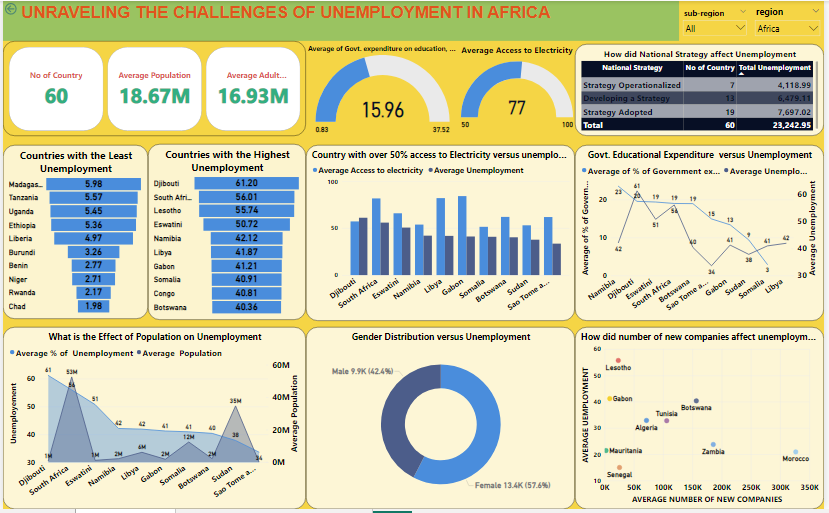

What the dashboard file says about the page in this screenshot:
{"tool":"powerbi","page":{"name":"Dashboard","canvas":[2100,1300],"ordinal":0},"visuals":[{"type":"funnel","title":"Countries with the Highest Unemployment","fields":{"Category":["Gender Dist.Entity"],"Y":["Avg(Gender Dist.% of Total Unemployement)"]},"box":[371.1,365.9,404.3,450.4],"z":0},{"type":"funnel","title":"Countries with the Least Unemployment ","fields":{"Category":["Gender Dist.Entity"],"Y":["Avg(Gender Dist.% of Total Unemployement)"]},"box":[0,368.5,371.1,445.3],"z":1000},{"type":"slicer","fields":{"Values":["Country Codes.region"]},"box":[1914.2,7.7,186.8,102.4],"z":2000},{"type":"tableEx","title":"How did National Strategy affect Unemployment","fields":{"Values":["National Strategy.National Strategy","Country Codes.No of Country","Sum(Gender Dist.% of Total Unemployement)"]},"box":[1464.2,110.1,635.8,256],"z":3000},{"type":"actionButton","box":[0,0,100,40],"z":4000},{"type":"scatterChart","title":"How did number of new companies affect unemployment","fields":{"Category":["Firm_Dist.Economy"],"X":["Avg(Firm_Dist.TOTAL Number of Limited Liability Companies)"],"Y":["Avg(Gender Dist.% of Total Unemployement)"],"Series":["Gender Dist.Entity"]},"box":[1463.8,834.3,637.2,465.7],"z":5000},{"type":"donutChart","title":"Gender Distribution versus Unemployment","fields":{"Y":["Sum(Gender Dist.% of Female Unemployment)","Sum(Gender Dist.% of Male Unemployment)"]},"box":[775.4,834.3,688.4,465.7],"z":6000},{"type":"clusteredColumnChart","title":"Country with over 50% access to Electricity versus unemployment","fields":{"Category":["Electricity.Entity"],"Y":["Avg(Electricity.Access to electricity (% of population))","Avg(Gender Dist.% of Total Unemployement)"]},"box":[775.4,368.5,688.4,450.4],"z":7000},{"type":"cardVisual","fields":{"Data":["Country Codes.No of Country","Avg(Gender Dist.Population )","Avg(Firm_Dist.Adult population)"]},"box":[0,102.4,775.4,243.1],"z":8000},{"type":"slicer","fields":{"Values":["Country Codes.sub-region"]},"box":[1729.9,10.2,184.3,79.3],"z":9000},{"type":"gauge","title":"Average Access to Electricity","fields":{"Y":["Avg(Electricity.Access to electricity (% of population))"],"MinValue":["Min(Electricity.Access to electricity (% of population))"],"MaxValue":["Max(Electricity.Access to electricity (% of population))"]},"box":[1166.9,110,296.9,235.4],"z":10000},{"type":"gauge","fields":{"Y":["Avg(Education.% of Government expenditure on education)"],"MinValue":["Min(Education.% of Government expenditure on education)"],"MaxValue":["Max(Education.% of Government expenditure on education)"]},"box":[775.4,110,391.5,235.4],"z":11000},{"type":"lineChart","title":" Govt. Educational Expenditure  versus Unemployment","fields":{"Category":["Electricity.Entity"],"Y2":["Avg(Gender Dist.% of Total Unemployement)"],"Y":["Avg(Education.% of Government expenditure on education)"]},"box":[1463.8,368.5,637.2,450.4],"z":12000},{"type":"areaChart","title":"What is the Effect of Population on Unemployment","fields":{"Category":["Electricity.Entity"],"Y":["Avg(Gender Dist.% of Total Unemployement)"],"Y2":["Avg(Gender Dist.Population )"]},"box":[0,834.3,775.4,465.7],"z":13000},{"type":"textbox","box":[0,0,1729.9,102.4],"z":14000}]}

Visuals, with their boxes in screenshot pixels (x1, y1, x2, y2), scaled from the page's 2100x1300 canvas onto the 829x513 screenshot:
"Countries with the Highest Unemployment" funnel: [146,144,306,322]
"Countries with the Least Unemployment " funnel: [0,145,146,321]
slicer - Country Codes.region: [756,3,828,43]
"How did National Strategy affect Unemployment" tableEx: [578,43,828,144]
actionButton: [0,0,39,16]
"How did number of new companies affect unemployment" scatterChart: [578,329,828,512]
"Gender Distribution versus Unemployment" donutChart: [306,329,578,512]
"Country with over 50% access to Electricity versus unemployment" clusteredColumnChart: [306,145,578,323]
cardVisual - Country Codes.No of Country x Avg(Gender Dist.Population ): [0,40,306,136]
slicer - Country Codes.sub-region: [683,4,756,35]
"Average Access to Electricity" gauge: [461,43,578,136]
gauge - Avg(Education.% of Government expenditure on education) x Min(Education.% of Government expenditure on education): [306,43,461,136]
" Govt. Educational Expenditure  versus Unemployment" lineChart: [578,145,828,323]
"What is the Effect of Population on Unemployment" areaChart: [0,329,306,512]
textbox: [0,0,683,40]
